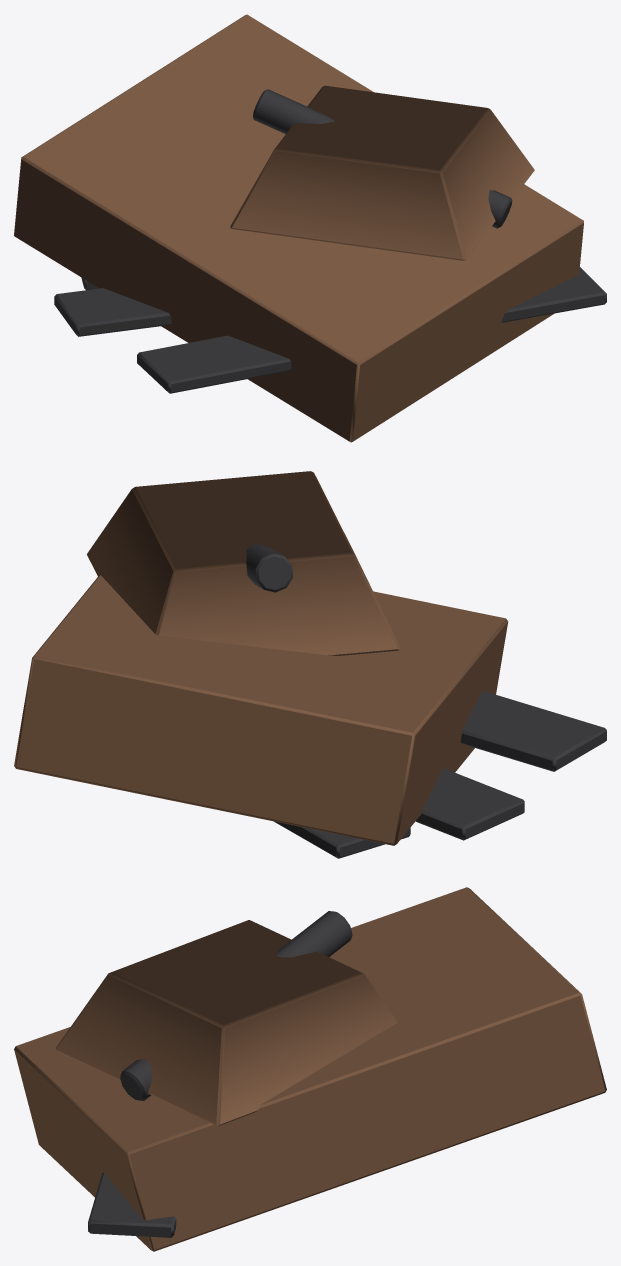
Rendered from prop_wreck.glb.
3 renders of one model, top to bottom at view 1: azimuth 30°, elevation 25°; view 2: azimuth 150°, elevation 25°; view 3: azimuth 270°, elevation 25°, orthographic. The views are drawn at different scales.
Visible parts, largest first — view 1: Wreck; view 2: Wreck; view 3: Wreck.
Boxes of the visible parts, left/top/right/bottom form: Wreck: left=14, top=14, right=606, bottom=442; Wreck: left=14, top=471, right=606, bottom=858; Wreck: left=14, top=887, right=606, bottom=1251.
Size of the model in its own units: 4.46 by 2.33 by 4.8.
